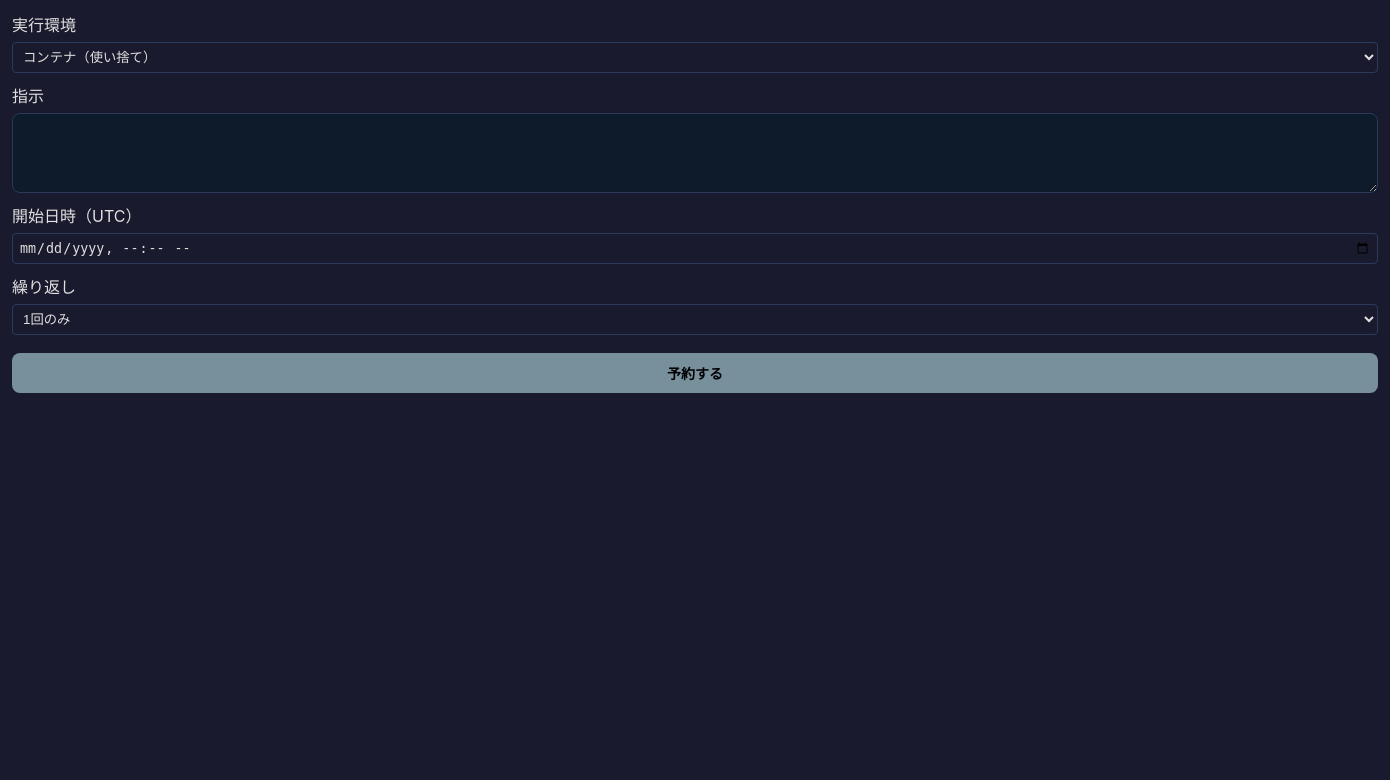
Test: schedules a new container without a selected environment
The image size is (1390, 780).
Select "コンテナ（使い捨て）" in the dropdown labelled "実行環境" at (695,58), box 12,42 -> 1378,73
Type "集計" into the text box labelled "指示".
click(695, 153); type("集計")  # box 12,113 -> 1378,193
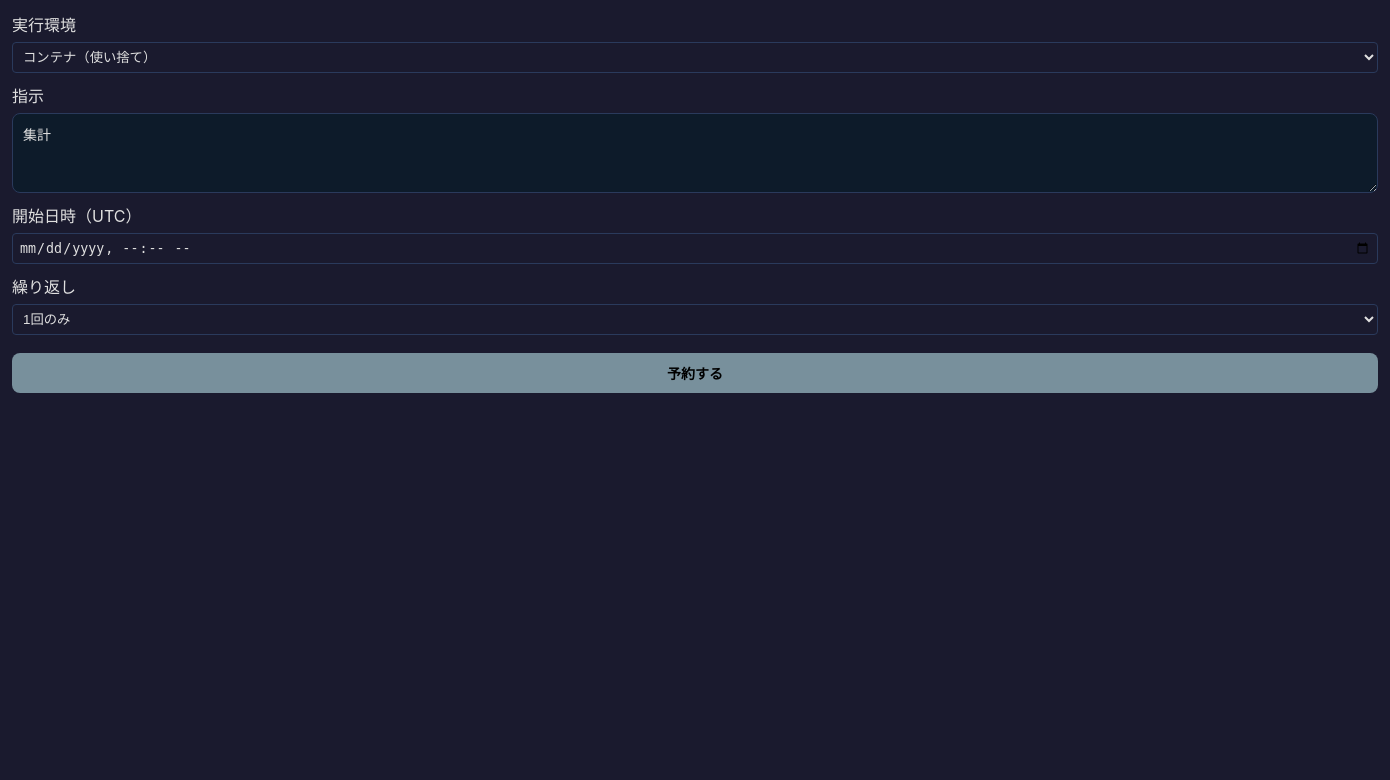
Type "2099-03-10T09:30" into the field labelled "開始日時（UTC）".
click(695, 249); type("2099-03-10T09:30")  # box 12,233 -> 1378,264
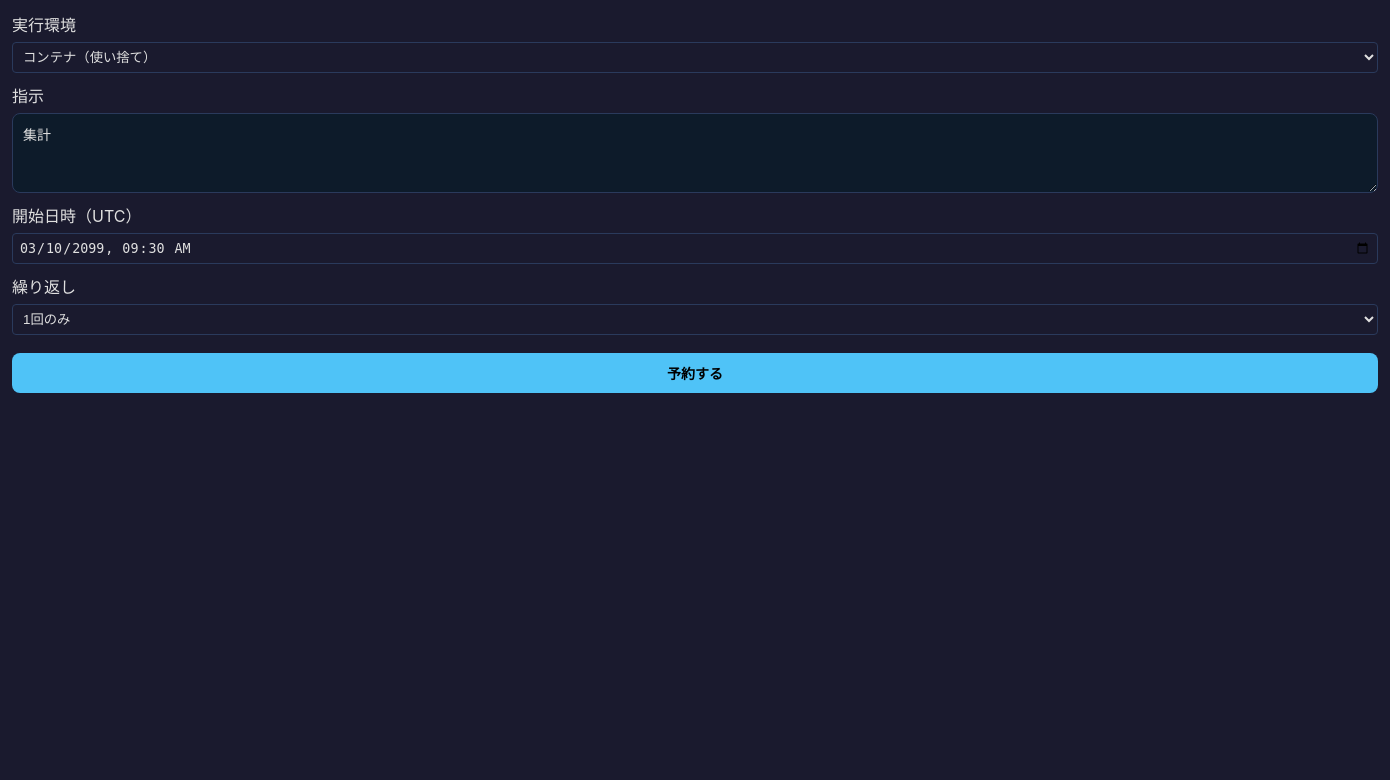
Click the button "予約する".
click(695, 373)  # box 12,353 -> 1378,393
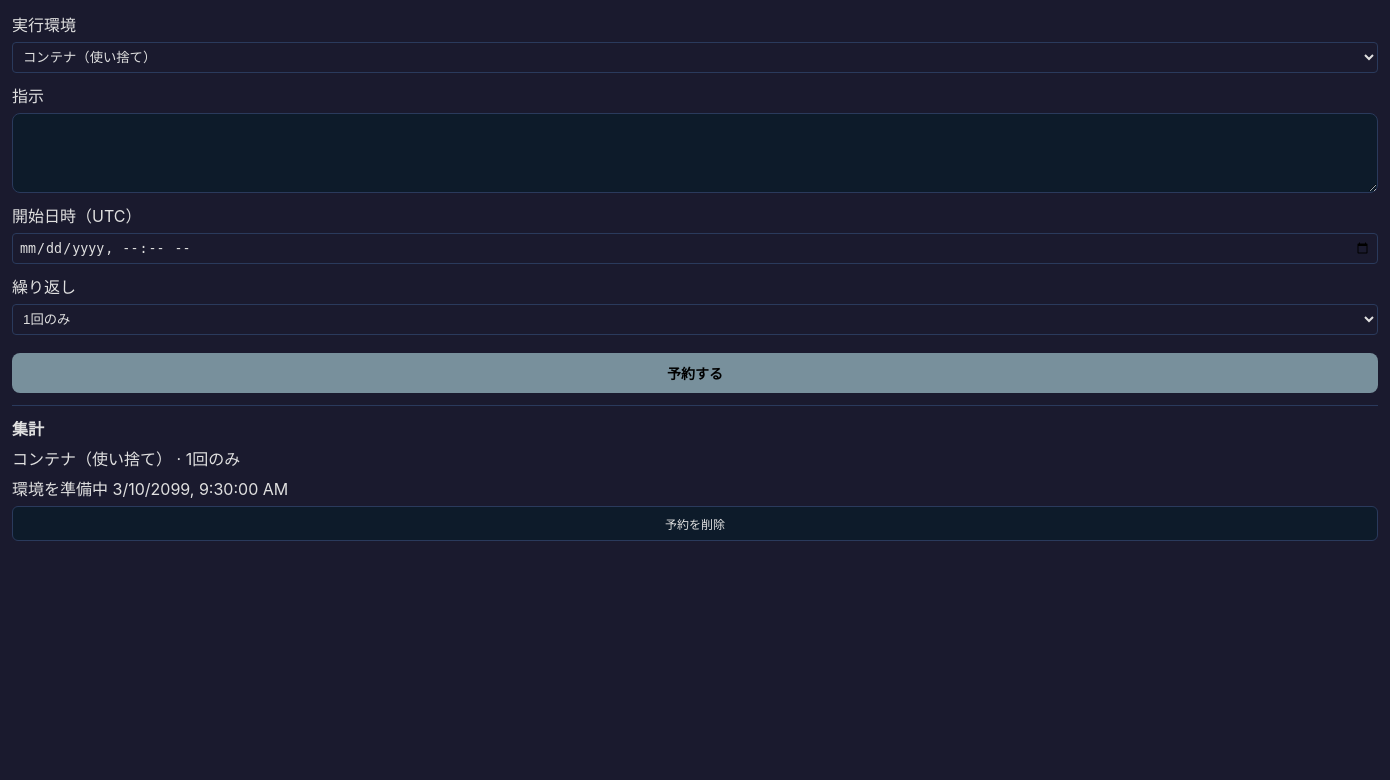
Expected: the text "環境を準備中 3/10/2099, 9:30:00 AM" is shown, 12,479 -> 288,499
